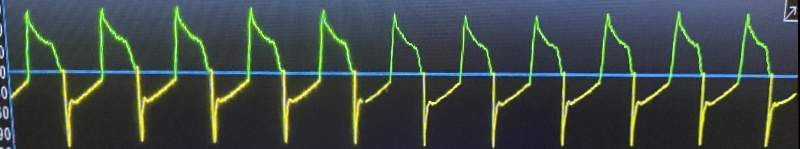peepi: (1, 1, 785, 149)
